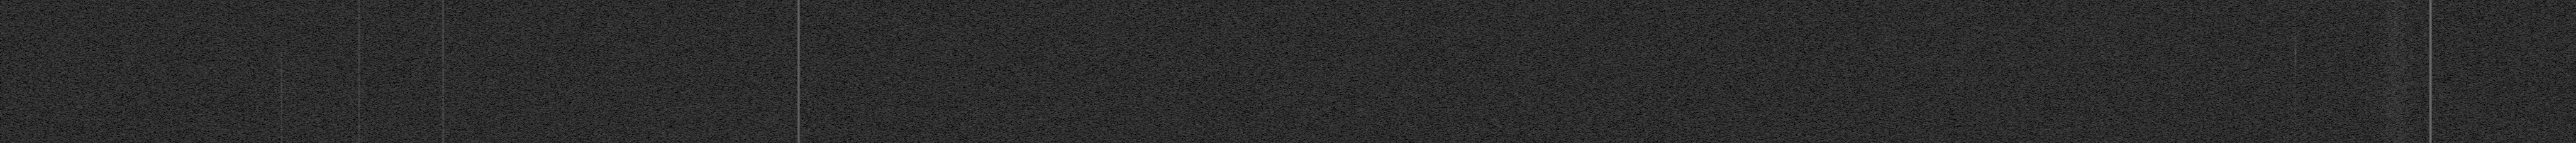wv_am: (797, 0, 800, 143), (442, 0, 445, 143)
wv_cw: (2428, 0, 2433, 143), (358, 0, 360, 143)
wv_lsb: (279, 51, 283, 143), (2293, 3, 2297, 72), (2293, 105, 2297, 143), (2293, 72, 2297, 105), (662, 117, 665, 143), (662, 51, 665, 76), (662, 5, 665, 15), (662, 43, 665, 51), (662, 23, 665, 31), (281, 16, 283, 31), (662, 33, 665, 39), (281, 31, 283, 44), (662, 16, 665, 21), (662, 81, 665, 84), (662, 77, 665, 81), (281, 8, 283, 13), (662, 87, 665, 89), (281, 46, 283, 49), (281, 13, 283, 16), (281, 3, 283, 7)
wv_wbfm: (2369, 0, 2423, 143), (2367, 56, 2372, 58)
